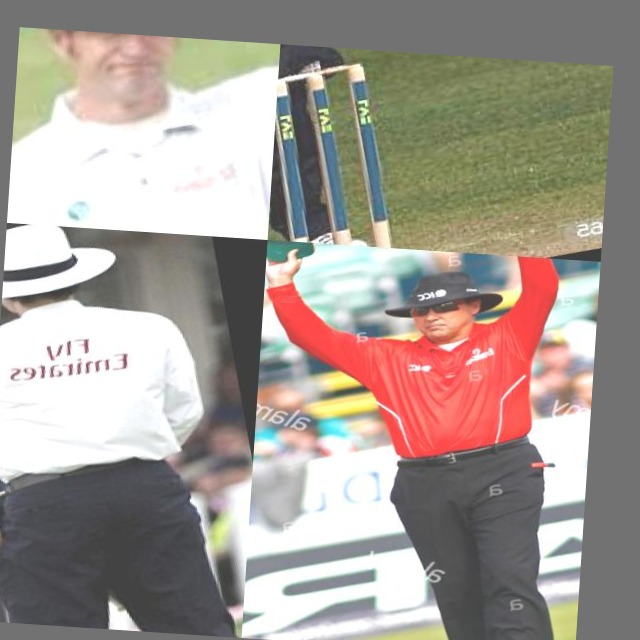No_Action: (268, 44, 464, 252)
Out: (0, 223, 268, 638), (7, 27, 280, 240)
Six: (241, 240, 601, 640)
